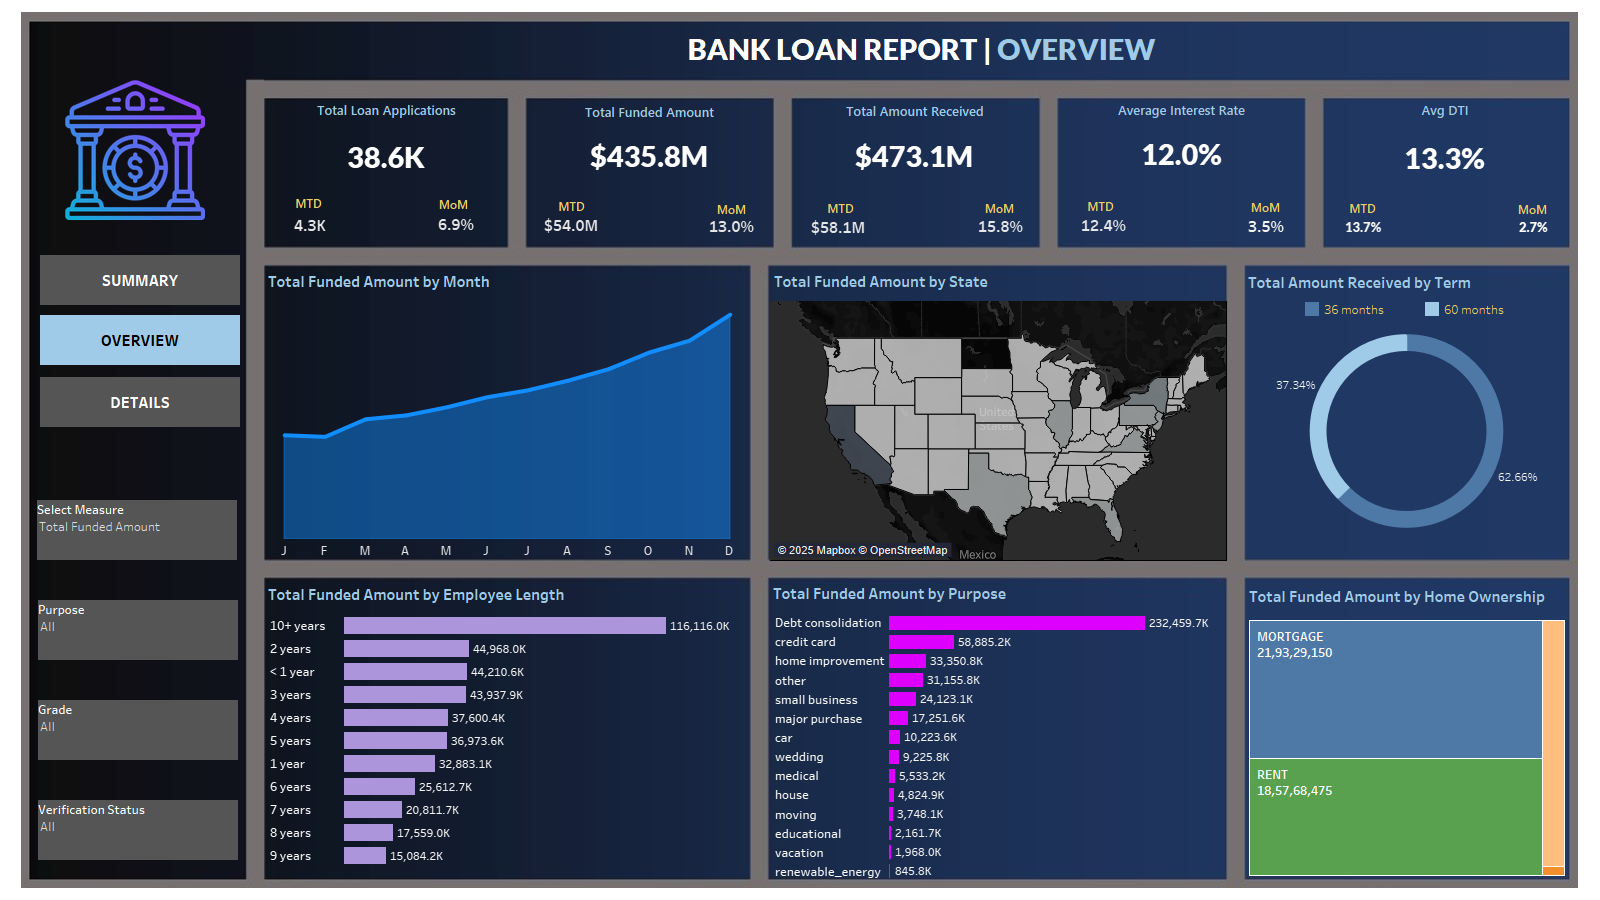

Layout of this report page (visuals, bound fields, positions):
{"tool":"tableau","page":{"name":"OVERVIEW","canvas":[1600,900],"ordinal":1},"visuals":[{"type":"image","param":"C:/Users/Khan/Documents/Data Analytics and Science Project/Bank Loan Project/Tab","box":[8,8,1584,884]},{"type":"text","box":[685,32,520,33]},{"type":"image","param":"C:/Users/Khan/Downloads/bank.png","box":[65,80,140,140]},{"type":"worksheet","title":"Total Loan Applications","mark":"Automatic","box":[265,95,243,92]},{"type":"worksheet","title":"Average Interest Rate","mark":"Automatic","box":[1058,95,247,86]},{"type":"worksheet","title":"Avg DTI","mark":"Automatic","box":[1322,95,246,93]},{"type":"worksheet","title":"Total Amount Received","mark":"Automatic","box":[792,96,246,87]},{"type":"worksheet","title":"Total Funded Amount","mark":"Automatic","box":[526,97,247,86]},{"type":"text","box":[288,195,41,16]},{"type":"text","box":[433,196,41,16]},{"type":"text","box":[551,198,41,16]},{"type":"text","box":[1245,199,41,16]},{"type":"text","box":[820,200,41,16]},{"type":"text","box":[979,200,41,16]},{"type":"text","box":[1080,200,41,13]},{"type":"text","box":[711,201,41,16]},{"type":"text","box":[1512,201,41,16]},{"type":"text","box":[1342,202,41,13]},{"type":"worksheet","title":"MTD Total Funded Amount","mark":"Automatic","box":[539,205,65,41]},{"type":"worksheet","title":"MoM Total Funded Amount","mark":"Automatic","box":[699,208,65,37]},{"type":"worksheet","title":"MTD Total Amount Received","mark":"Automatic","box":[804,208,70,40]},{"type":"worksheet","title":"MTD Average Interest Rate","mark":"Automatic","box":[1076,210,56,31]},{"type":"worksheet","title":"MoM Total Amount Received","mark":"Automatic","box":[970,211,62,32]},{"type":"worksheet","title":"MoM Average Interest Rate","mark":"Automatic","box":[1236,211,60,32]},{"type":"worksheet","title":"MTD Total Loan Applications","mark":"Automatic","box":[287,212,46,28]},{"type":"worksheet","title":"MoM Loan Applications","mark":"Automatic","box":[430,212,53,25]},{"type":"worksheet","title":"MTD Avg DTI","mark":"Automatic","box":[1331,214,65,28]},{"type":"worksheet","title":"MoM Avg DTI","mark":"Automatic","box":[1510,214,48,28]},{"type":"dashboard-object","box":[40,255,200,50]},{"type":"worksheet","title":"Month","mark":"Area","rows":["Calculation_587156840625680385","Calculation_587156840625680385"],"cols":["issue_date"],"box":[264,265,486,295]},{"type":"worksheet","title":"State","mark":"Multipolygon","box":[770,265,456,295]},{"type":"worksheet","title":"Term","mark":"Pie","rows":["Calculation_587156840639553539","Calculation_587156840639553539"],"box":[1244,266,325,294]},{"type":"legend","title":"Term","param":"[federated.1i2p9wj1vrfzpc10etiy51m21jew].[none:term:nk]","box":[1302,299,245,24]},{"type":"dashboard-object","box":[40,315,200,50]},{"type":"dashboard-object","box":[40,377,200,50]},{"type":"parameter","param":"[Parameters].[Parameter 1]","box":[37,500,200,60]},{"type":"worksheet","title":"Purpose","mark":"Automatic","rows":["purpose"],"cols":["Calculation_587156840625680385"],"box":[769,577,457,304]},{"type":"worksheet","title":"emp length","mark":"Automatic","rows":["emp_length"],"cols":["Calculation_587156840625680385"],"box":[264,578,486,303]},{"type":"worksheet","title":"Home Ownership","mark":"Automatic","box":[1245,580,323,299]},{"type":"filter","title":"Average Interest Rate","param":"[federated.1i2p9wj1vrfzpc10etiy51m21jew].[none:purpose:nk]","box":[38,600,200,60]},{"type":"filter","title":"Average Interest Rate","param":"[federated.1i2p9wj1vrfzpc10etiy51m21jew].[none:grade:nk]","box":[38,700,200,60]},{"type":"filter","title":"Average Interest Rate","param":"[federated.1i2p9wj1vrfzpc10etiy51m21jew].[none:verification_status:nk]","box":[38,800,200,60]}]}

Visuals, with their boxes in screenshot pixels (x1, y1, x2, y2), scaled from the page's 1600x900 canvas onto the 1600x900 screenshot:
image: <box>8,8,1592,892</box>
text: <box>685,32,1205,65</box>
image: <box>65,80,205,220</box>
"Total Loan Applications" worksheet: <box>265,95,508,187</box>
"Average Interest Rate" worksheet: <box>1058,95,1305,181</box>
"Avg DTI" worksheet: <box>1322,95,1568,188</box>
"Total Amount Received" worksheet: <box>792,96,1038,183</box>
"Total Funded Amount" worksheet: <box>526,97,773,183</box>
text: <box>288,195,329,211</box>
text: <box>433,196,474,212</box>
text: <box>551,198,592,214</box>
text: <box>1245,199,1286,215</box>
text: <box>820,200,861,216</box>
text: <box>979,200,1020,216</box>
text: <box>1080,200,1121,213</box>
text: <box>711,201,752,217</box>
text: <box>1512,201,1553,217</box>
text: <box>1342,202,1383,215</box>
"MTD Total Funded Amount" worksheet: <box>539,205,604,246</box>
"MoM Total Funded Amount" worksheet: <box>699,208,764,245</box>
"MTD Total Amount Received" worksheet: <box>804,208,874,248</box>
"MTD Average Interest Rate" worksheet: <box>1076,210,1132,241</box>
"MoM Total Amount Received" worksheet: <box>970,211,1032,243</box>
"MoM Average Interest Rate" worksheet: <box>1236,211,1296,243</box>
"MTD Total Loan Applications" worksheet: <box>287,212,333,240</box>
"MoM Loan Applications" worksheet: <box>430,212,483,237</box>
"MTD Avg DTI" worksheet: <box>1331,214,1396,242</box>
"MoM Avg DTI" worksheet: <box>1510,214,1558,242</box>
dashboard-object: <box>40,255,240,305</box>
"Month" worksheet (Area marks): <box>264,265,750,560</box>
"State" worksheet (Multipolygon marks): <box>770,265,1226,560</box>
"Term" worksheet (Pie marks): <box>1244,266,1569,560</box>
"Term" legend: <box>1302,299,1547,323</box>
dashboard-object: <box>40,315,240,365</box>
dashboard-object: <box>40,377,240,427</box>
parameter: <box>37,500,237,560</box>
"Purpose" worksheet: <box>769,577,1226,881</box>
"emp length" worksheet: <box>264,578,750,881</box>
"Home Ownership" worksheet: <box>1245,580,1568,879</box>
"Average Interest Rate" filter: <box>38,600,238,660</box>
"Average Interest Rate" filter: <box>38,700,238,760</box>
"Average Interest Rate" filter: <box>38,800,238,860</box>
